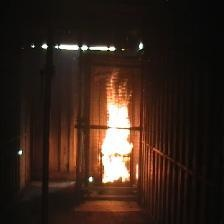fire: (95, 82, 130, 187)
